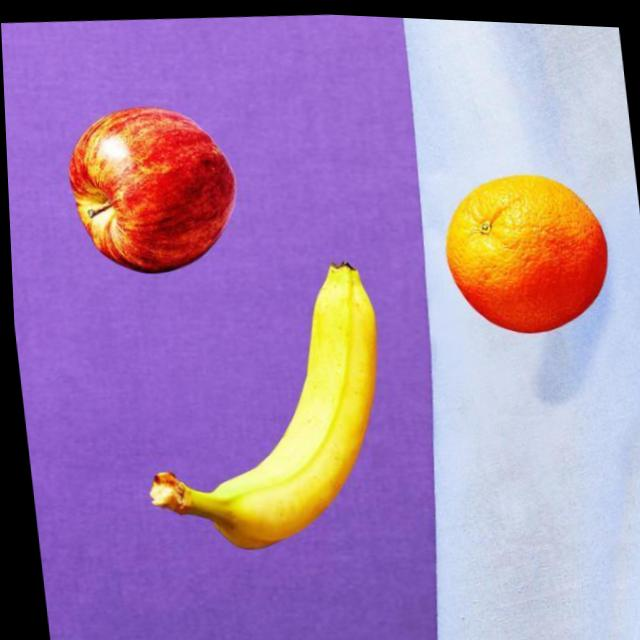Apple: (55, 92, 248, 291)
Banana: (117, 235, 411, 557)
Orange: (423, 156, 616, 342)
